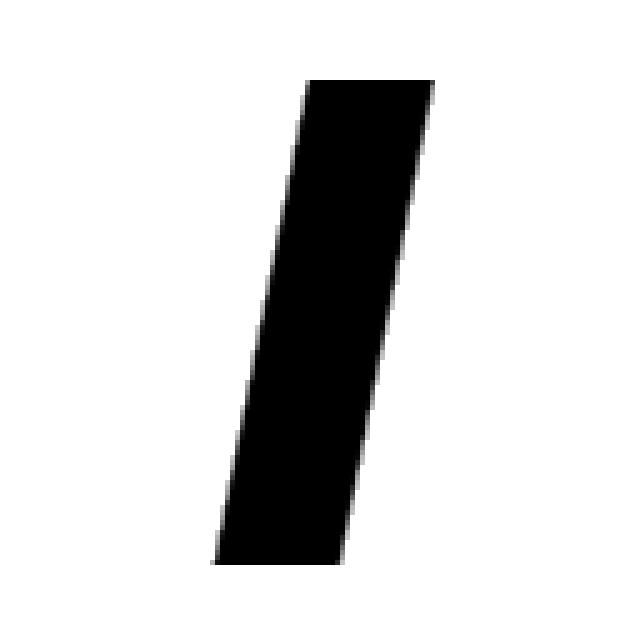I: (215, 80, 435, 570)
